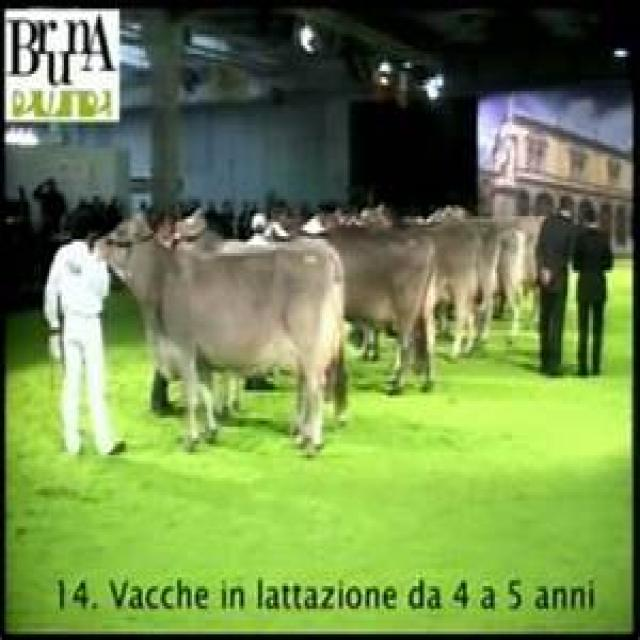cow: (119, 233, 348, 458), (395, 219, 544, 370), (314, 228, 435, 393)
